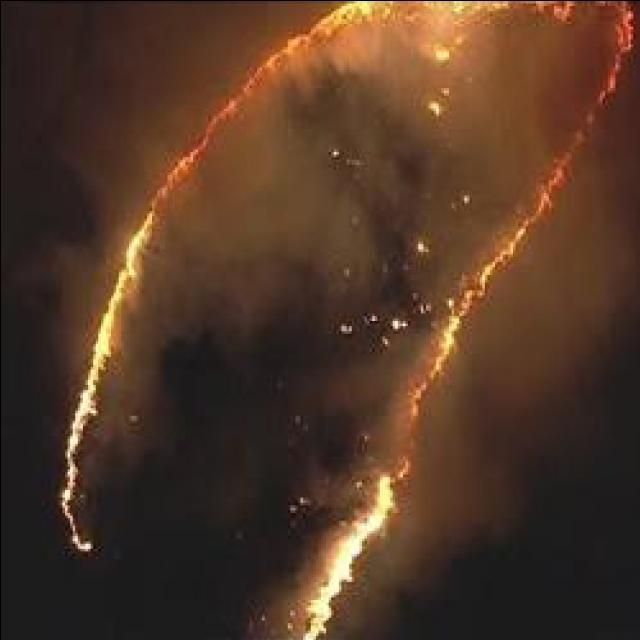fire: (303, 473, 407, 634), (58, 332, 114, 484), (100, 203, 164, 322), (316, 0, 516, 29), (418, 294, 468, 398)
smoke: (486, 302, 640, 428), (412, 422, 524, 568), (266, 162, 382, 298), (357, 30, 513, 124), (316, 342, 396, 424)
